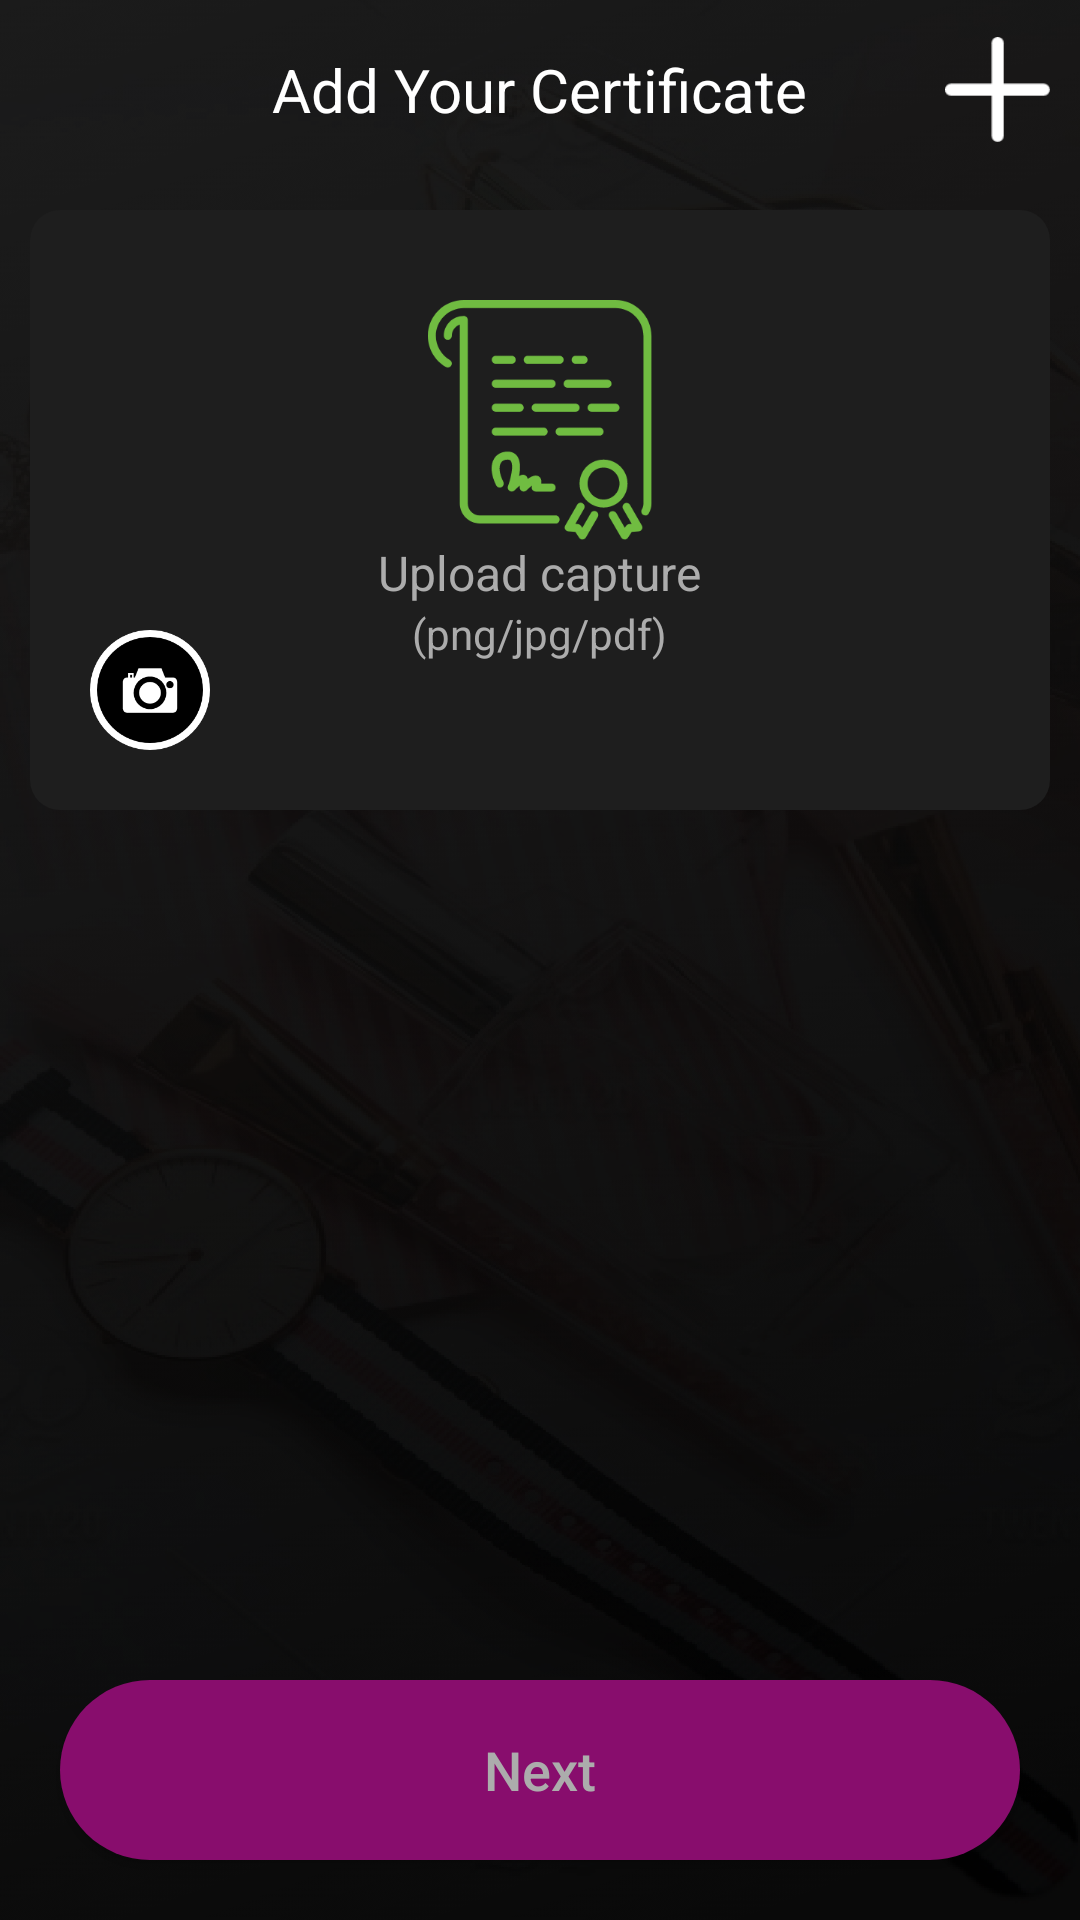

Screen size 1080 × 1920. Icon name, then its box in pixels as (x1, y1, x2, y2):
camera: (90, 630, 210, 750)
certifiacte: (428, 300, 652, 540)
plus one: (945, 37, 1050, 142)
